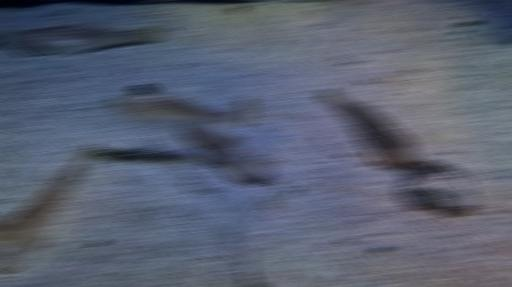Fish: (0, 142, 97, 261), (320, 88, 417, 169), (108, 93, 253, 132), (179, 129, 274, 181), (183, 129, 274, 181), (3, 27, 160, 56), (241, 260, 253, 286)
